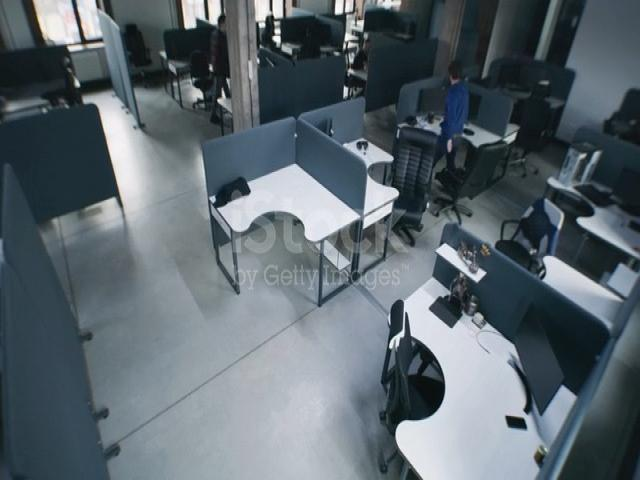EMPTY_CHAIR: (342, 283, 462, 469), (506, 184, 560, 284), (53, 30, 96, 122), (456, 143, 506, 217), (118, 11, 158, 97), (397, 130, 429, 237), (517, 62, 557, 146), (187, 48, 216, 117)
PERSON_IN_CHAIR: (585, 63, 640, 177), (341, 15, 379, 113)
